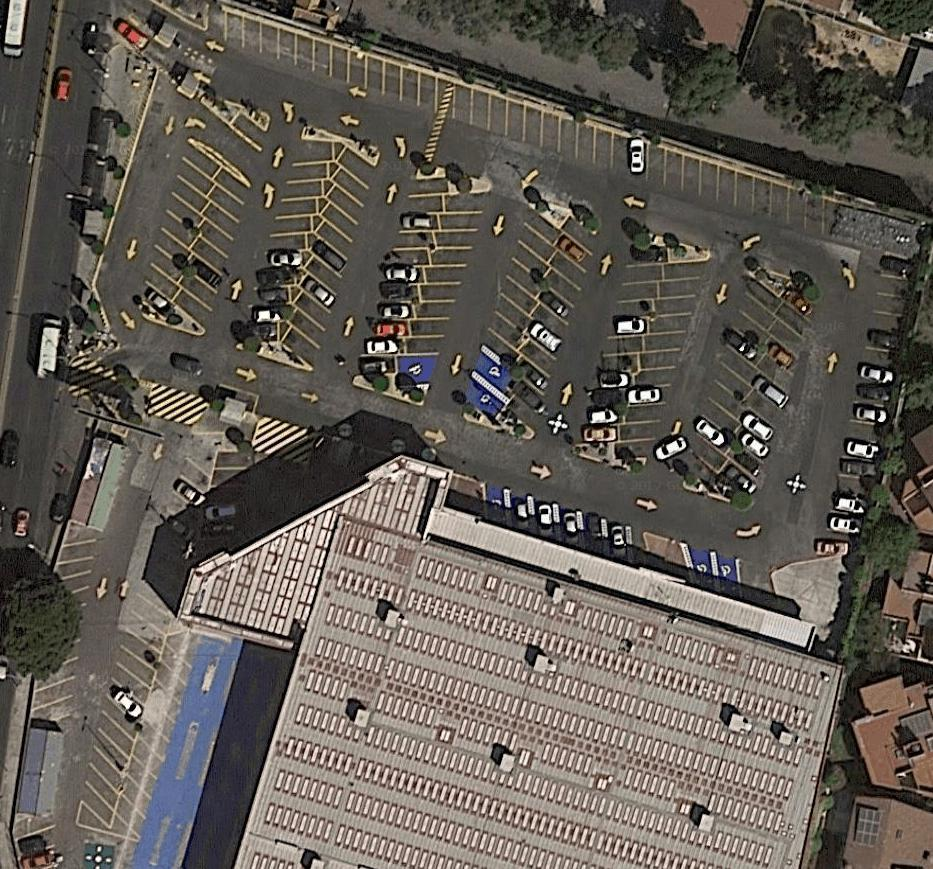parkingspot: (451, 80, 826, 239), (811, 254, 915, 561), (205, 1, 440, 114), (461, 201, 567, 426), (78, 586, 174, 832), (279, 143, 380, 373), (717, 281, 818, 502), (505, 213, 601, 438), (235, 137, 335, 345), (688, 271, 786, 475), (395, 187, 494, 387), (612, 258, 710, 460), (572, 245, 670, 447), (354, 174, 451, 376), (111, 639, 195, 841), (137, 136, 226, 322), (168, 164, 253, 335), (481, 476, 635, 567), (158, 454, 213, 547), (26, 648, 79, 730), (200, 449, 253, 531), (677, 539, 744, 600), (52, 538, 98, 606), (11, 824, 62, 868), (228, 109, 269, 153)
